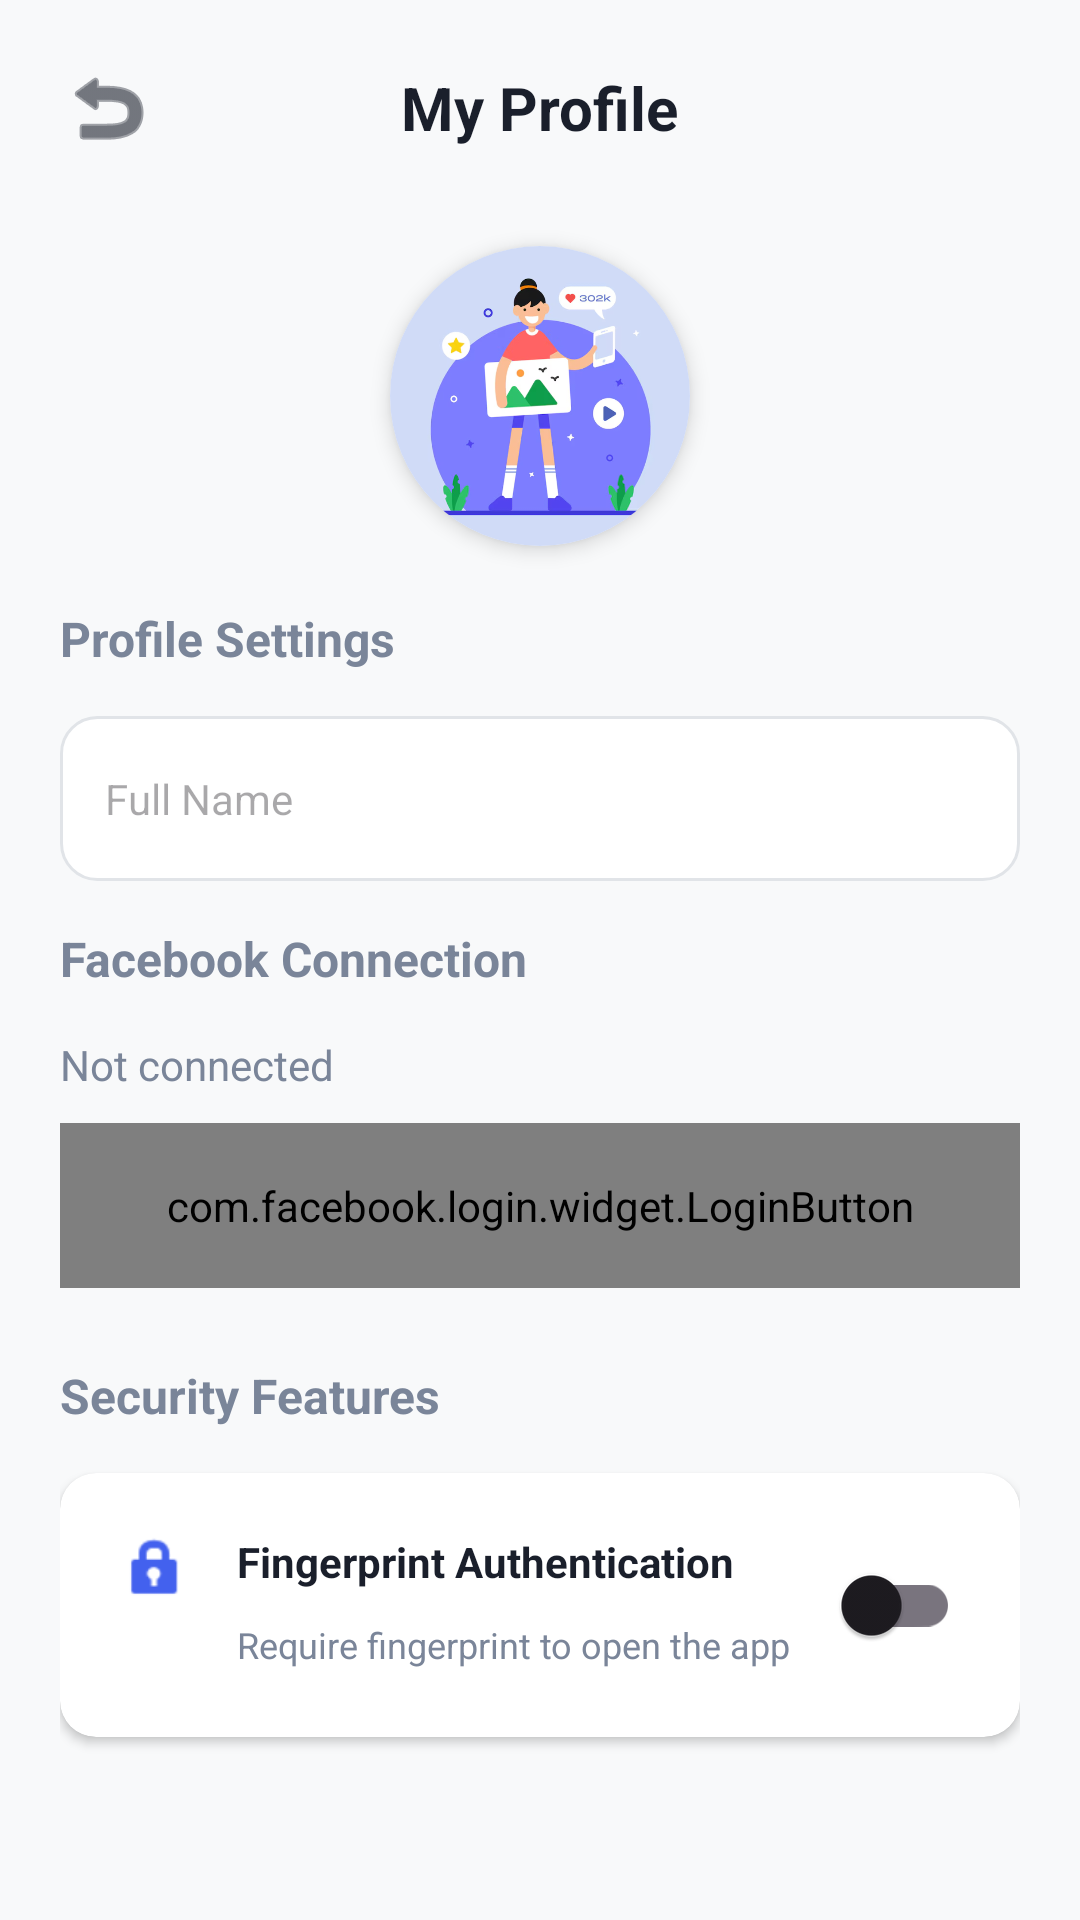

Where to tap for icons on this 1080×1920 app screen, as [x,y]:
Back: [109,108]
lock idle: [154,1566]
welcome: [540,396]
